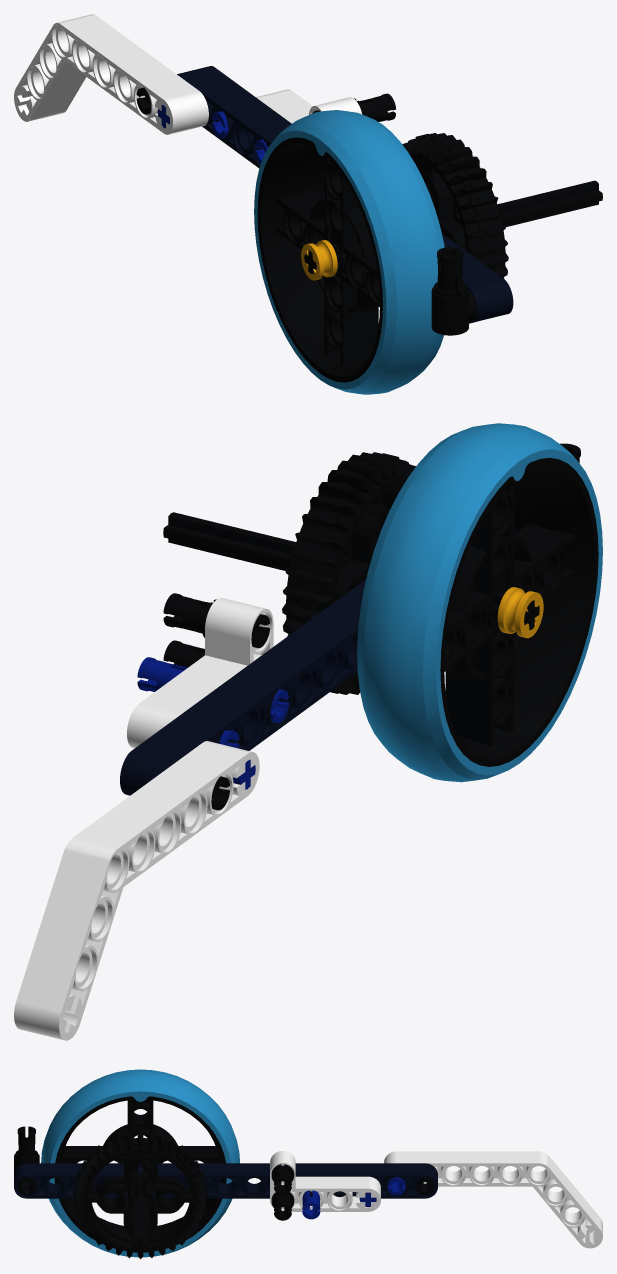
File: rechterkant.obj
The picture shows the model from 3 angles, top to bottom: view 1: azimuth 30°, elevation 25°; view 2: azimuth 150°, elevation 25°; view 3: azimuth 270°, elevation 25°; orthographic projection. The views are drawn at different scales.
Bounding box in the file's own units: 160 × 140 × 414.
